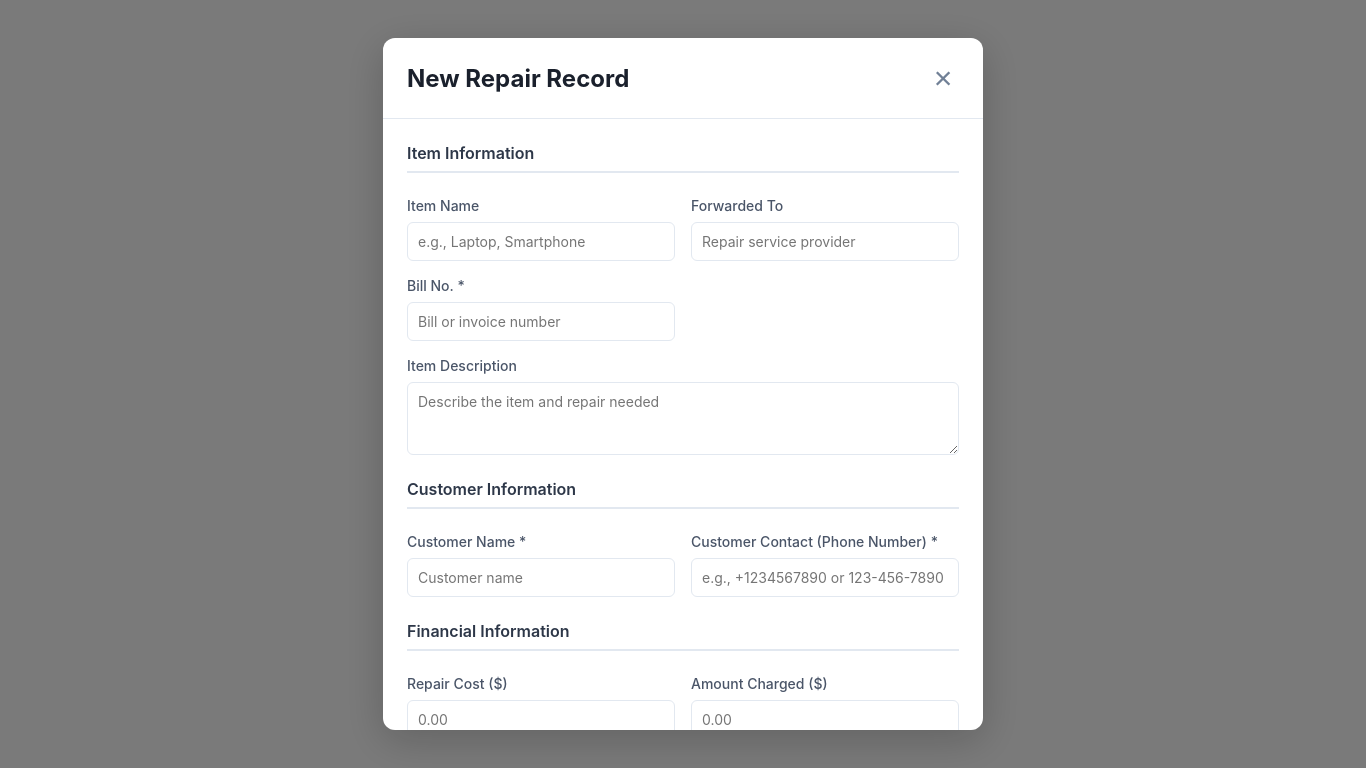
Test: RepairForm Component › should display error for invalid phone number
Type "John Doe" into the field labelled "Customer Name *" at [541, 578], box x1=407 y1=558 x2=675 y2=597
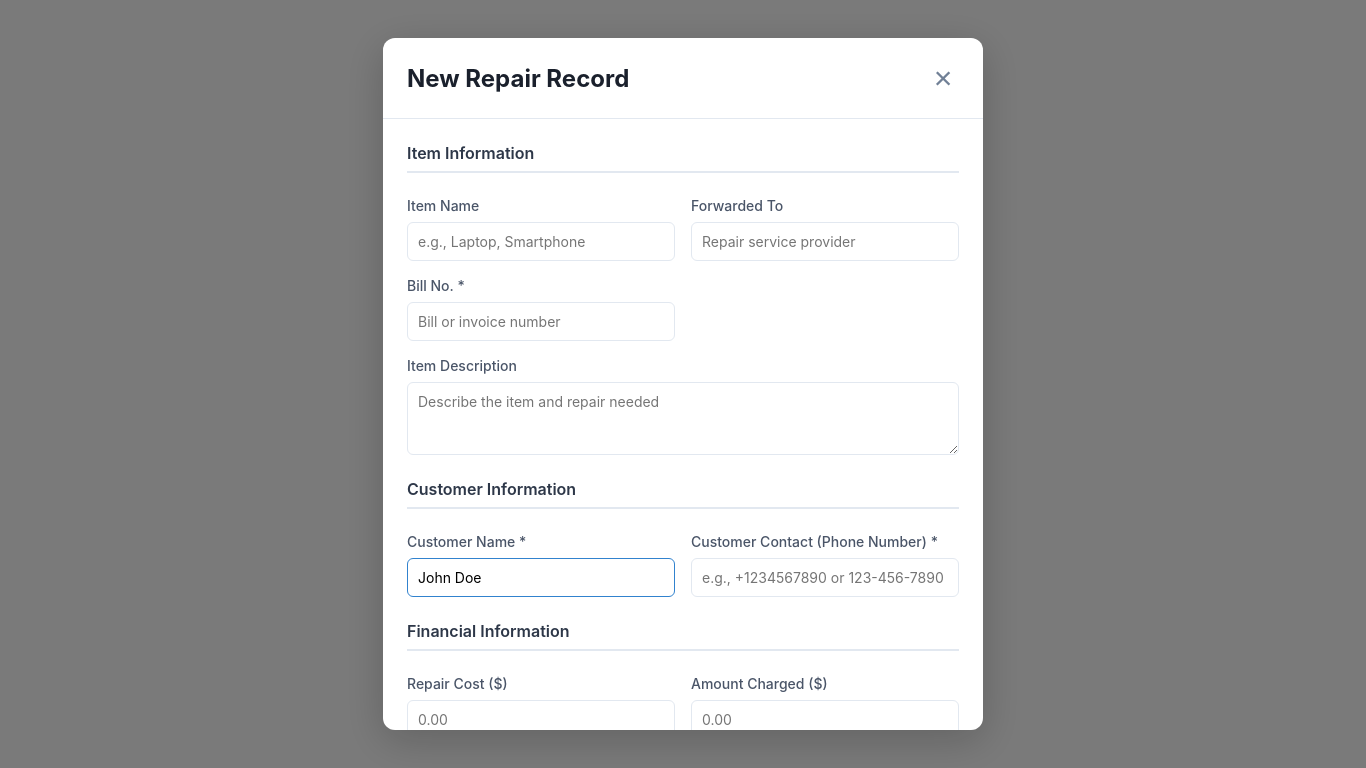
Type "abc" into the field labelled "Customer Contact (Phone Number) *" at [825, 578], box x1=691 y1=558 x2=959 y2=597
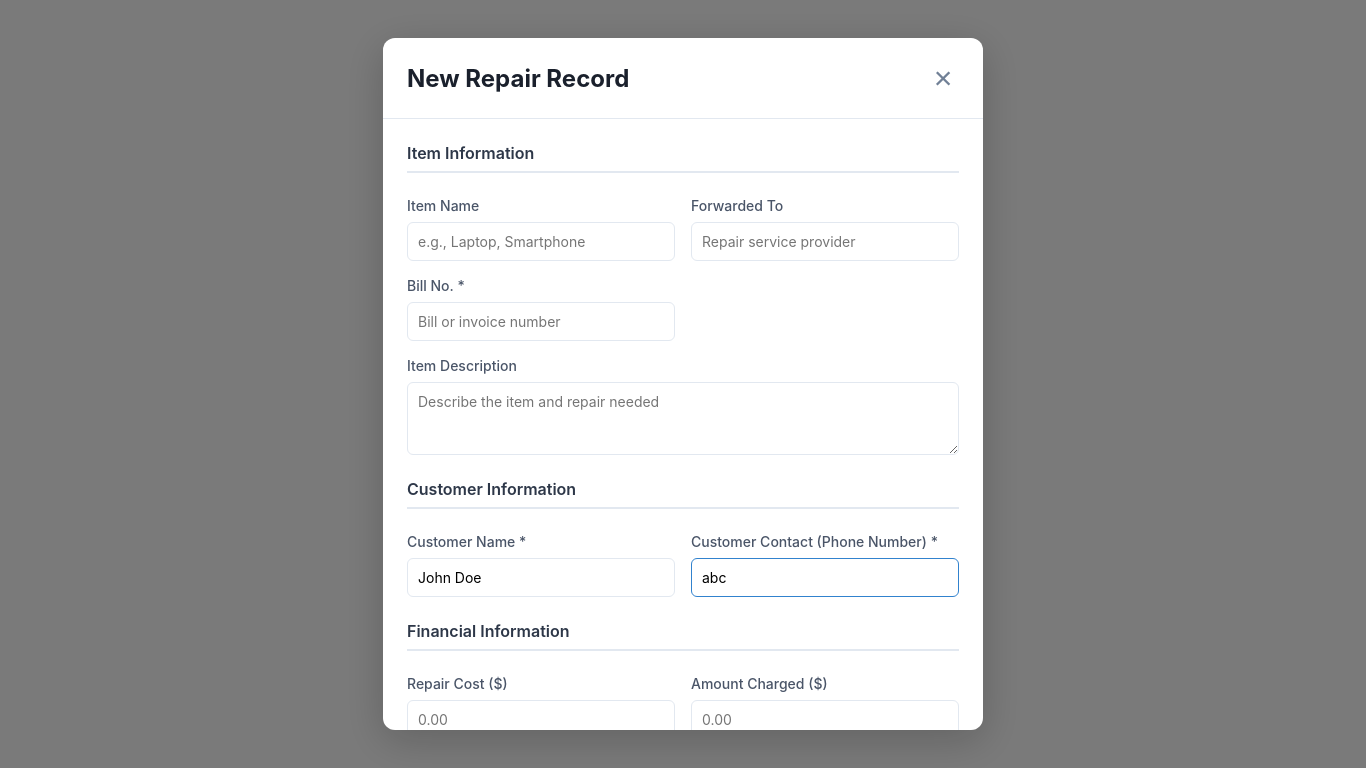
Type "B001" into the field labelled "Bill No. *" at [541, 322], box x1=407 y1=302 x2=675 y2=341
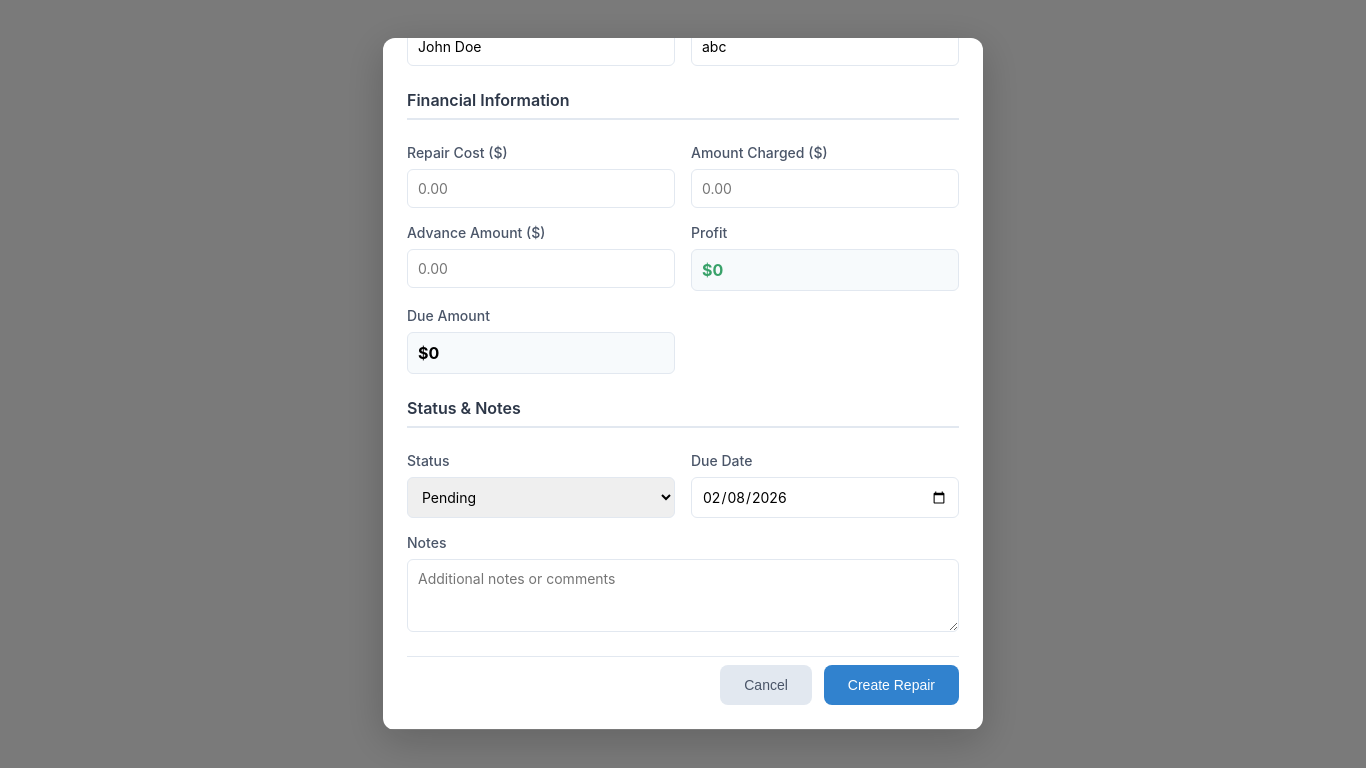
Click the button "Create Repair" at [891, 685], box x1=824 y1=665 x2=959 y2=705
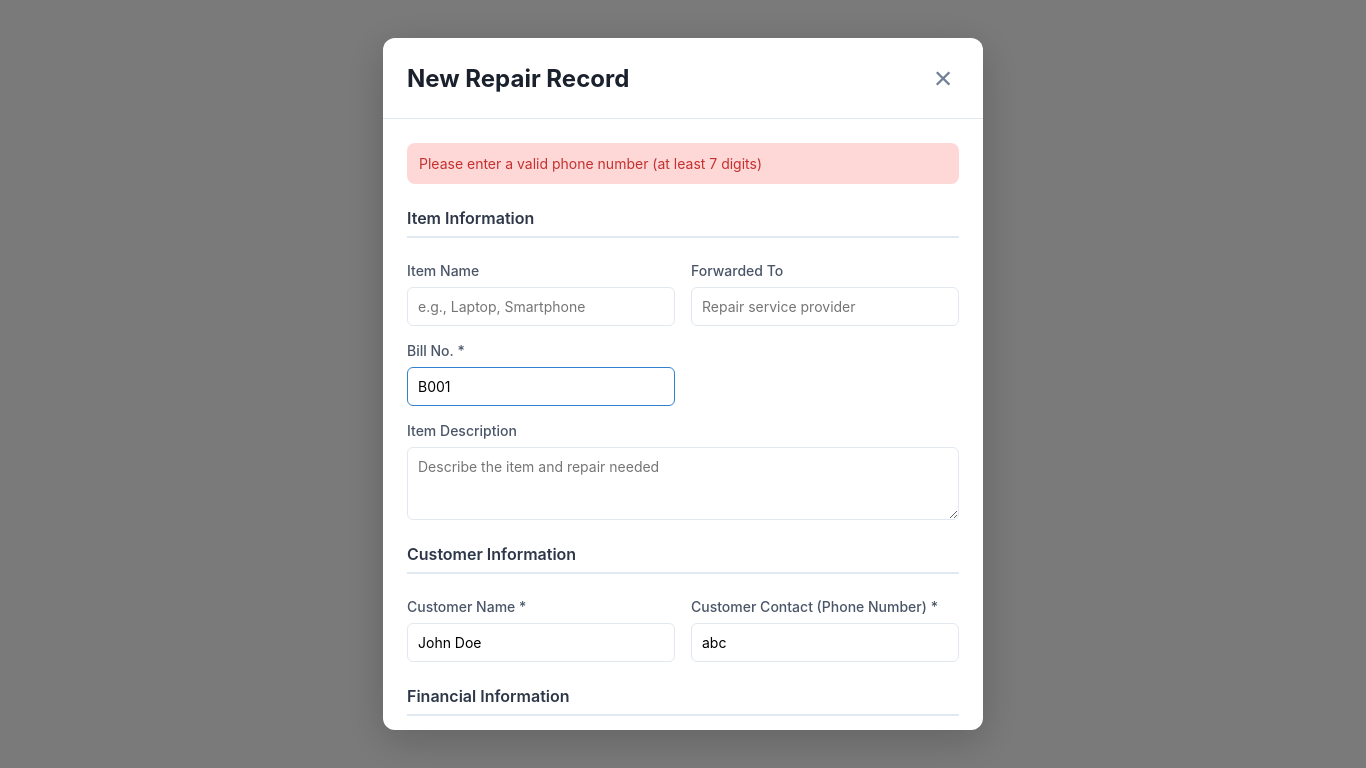
expect the text "Please enter a valid phone number (at least 7 digits)" is shown: met, box x1=407 y1=143 x2=959 y2=184
